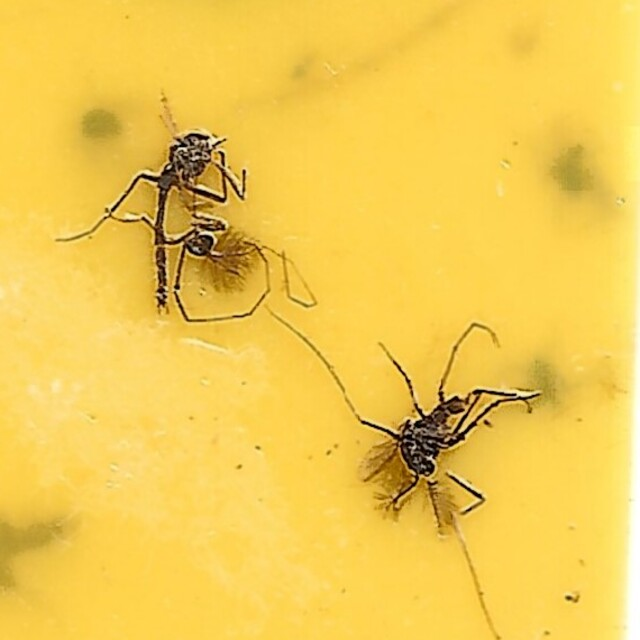Nematocera: (362, 342, 528, 516), (112, 124, 254, 322)
